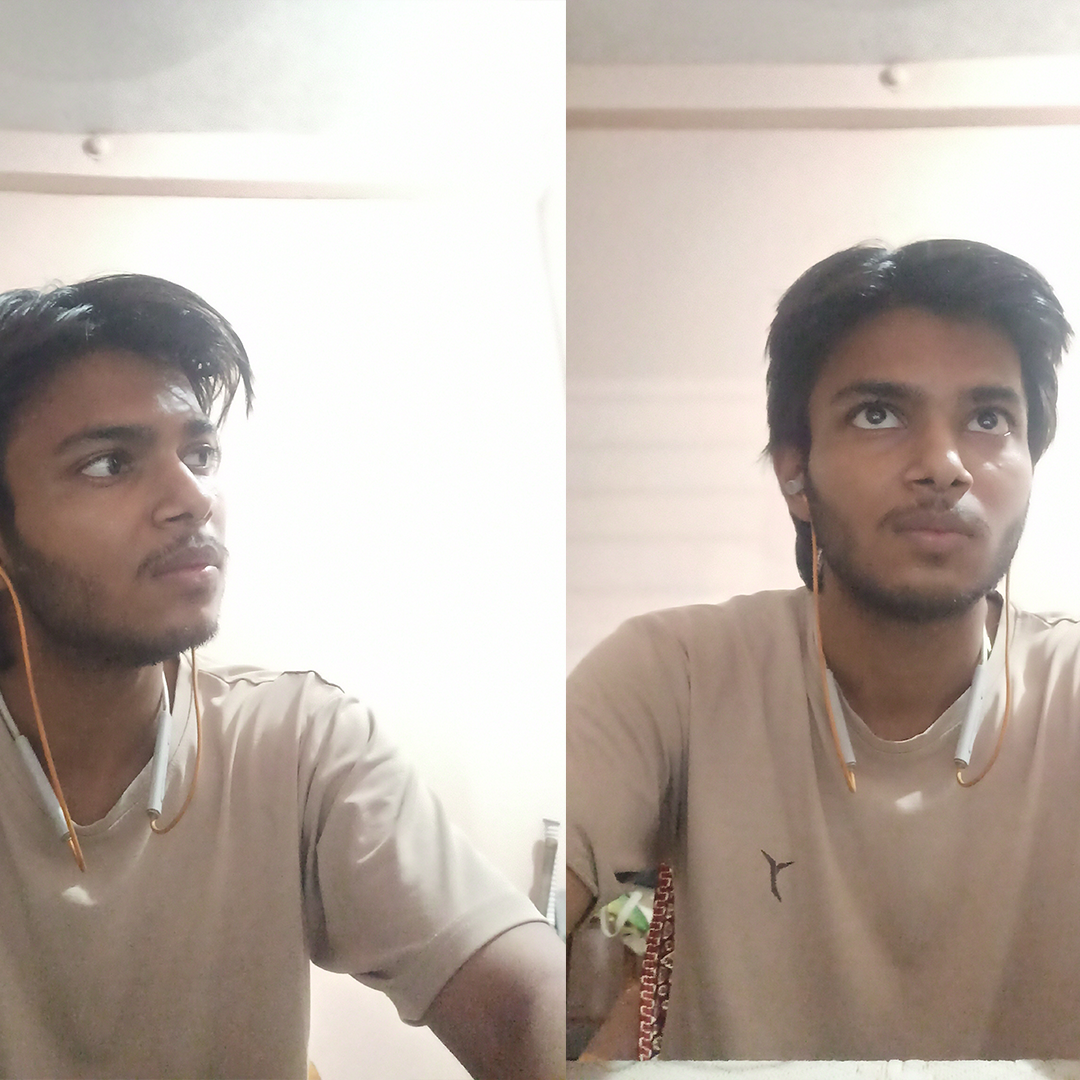Focused: (694, 202, 1072, 671)
distracted: (24, 240, 338, 771)
